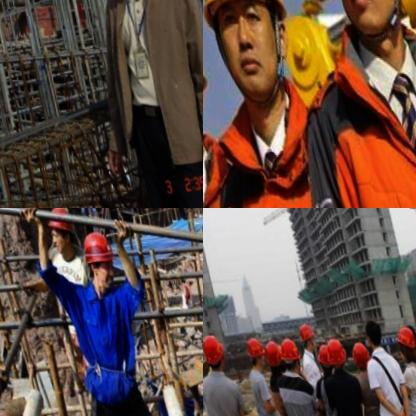helmet: (203, 0, 316, 130), (283, 0, 416, 65), (73, 228, 116, 290), (38, 208, 77, 255), (274, 328, 303, 378), (342, 332, 372, 375), (389, 319, 416, 363), (259, 336, 285, 379), (237, 331, 264, 372), (203, 329, 226, 377), (321, 336, 345, 376), (292, 318, 316, 356), (312, 336, 332, 377)
